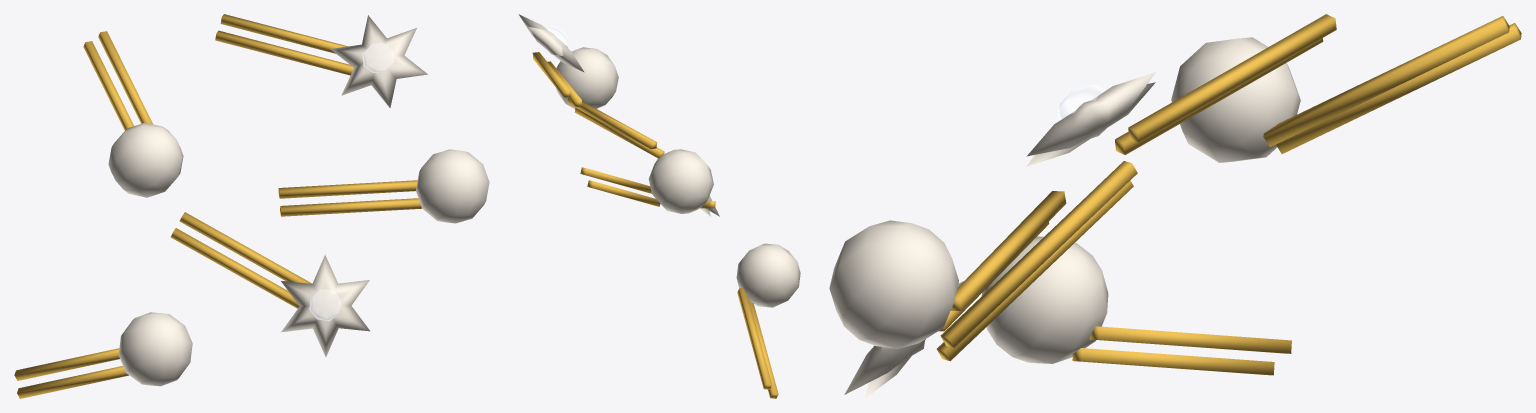
The model's file is pearl_hairpins.glb.
3 renders of one model, left to right at view 1: azimuth 30°, elevation 25°; view 2: azimuth 150°, elevation 25°; view 3: azimuth 270°, elevation 25°, orthographic. The views are drawn at different scales.
Visible parts, largest first — view 1: pearl_hairpins; view 2: pearl_hairpins; view 3: pearl_hairpins.
Boxes of the visible parts, <box> form: pearl_hairpins: <box>14,14,489,398</box>; pearl_hairpins: <box>518,14,800,398</box>; pearl_hairpins: <box>829,14,1521,398</box>.
Size of the model in its own units: 0.0683 by 0.0596 by 0.0655.
